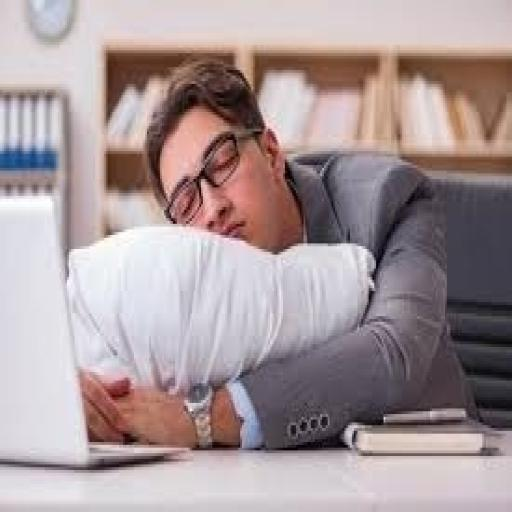sleeping: (69, 53, 480, 453)
